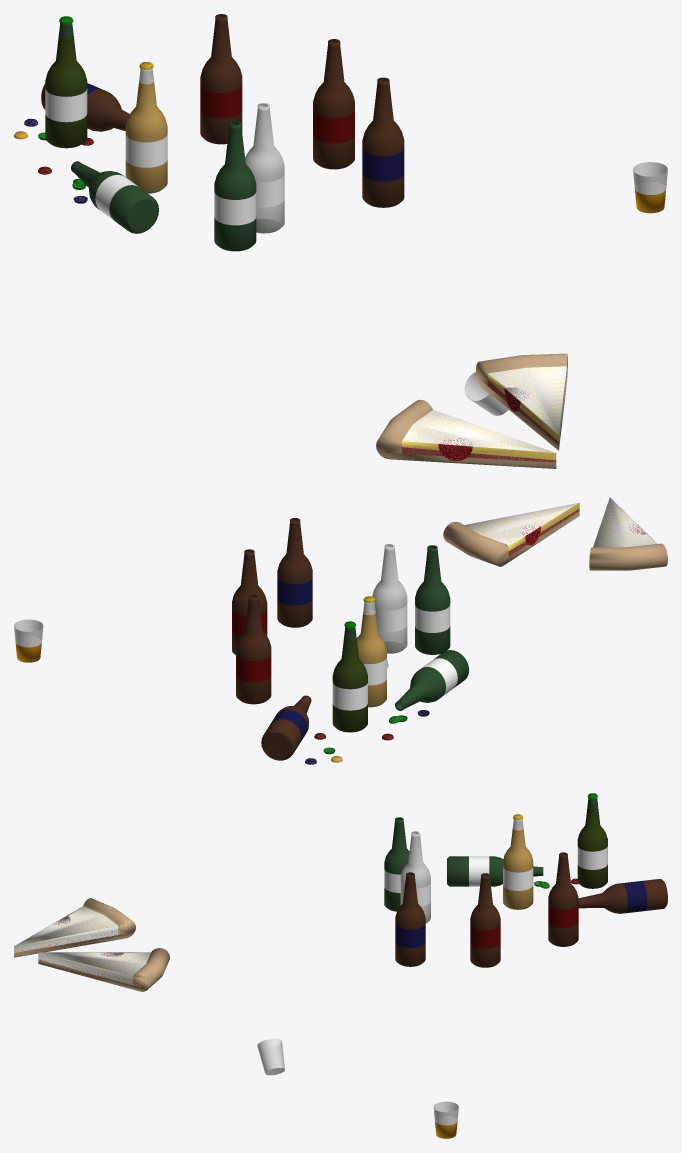
3 renders of one model, top to bottom at view 1: azimuth 30°, elevation 25°; view 2: azimuth 150°, elevation 25°; view 3: azimuth 270°, elevation 25°, orthographic. The views are drawn at different scales.
Parts seen in each view (by area): view 1: Component_1 (×4), Group_13 (×6), Group_6 (×6), Group_7 (×4), Group_1 (×3), Group_15 (×3), Group_17 (×3), group_8, group_7; view 2: Component_1 (×4), Group_6 (×6), Group_7 (×5), Group_13 (×5), Group_17 (×3), Group_1 (×3), Group_15 (×3), group_8 (×2); view 3: Component_1 (×4), Group_7 (×6), Group_13 (×6), Group_6 (×4), Group_15 (×3), Group_1 (×3), Group_17 (×2), group_7, group_8.
Part boxes in pixels (x1,y1,x2,y2): Component_1 (×4): [376, 353, 567, 468]; Group_13 (×6): [200, 14, 354, 169]; Group_6 (×6): [71, 121, 256, 251]; Group_7 (×4): [87, 77, 404, 207]; Group_1 (×3): [45, 36, 87, 148]; Group_15 (×3): [125, 81, 167, 193]; Group_17 (×3): [245, 103, 284, 233]; group_8: [633, 162, 667, 194]; group_7: [464, 372, 508, 415]; Component_1 (×4): [443, 497, 667, 570]; Group_6 (×6): [395, 545, 468, 710]; Group_7 (×5): [261, 518, 312, 760]; Group_13 (×5): [232, 549, 271, 704]; Group_17 (×3): [372, 544, 407, 653]; Group_1 (×3): [332, 638, 367, 732]; Group_15 (×3): [356, 613, 386, 707]; group_8 (×2): [14, 619, 43, 662]; Component_1 (×4): [14, 898, 169, 991]; Group_7 (×6): [395, 872, 667, 966]; Group_13 (×6): [470, 852, 578, 967]; Group_6 (×4): [384, 817, 543, 886]; Group_15 (×3): [503, 829, 533, 909]; Group_1 (×3): [577, 808, 607, 888]; Group_17 (×2): [400, 831, 430, 906]; group_7: [257, 1038, 284, 1075]; group_8: [433, 1101, 458, 1125].
Size of the model in its own units: 44.63 by 64.5 by 22.52.
